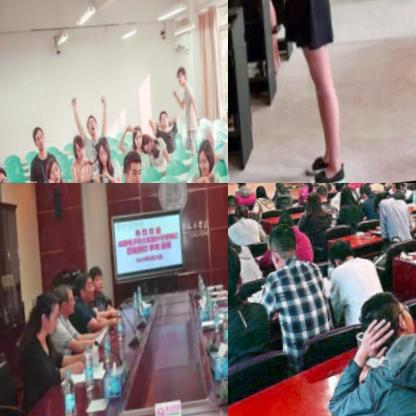head: (355, 287, 416, 361), (264, 224, 302, 268), (31, 290, 63, 337), (228, 243, 246, 303), (327, 234, 356, 271), (196, 137, 219, 179), (56, 280, 80, 317), (120, 149, 146, 183), (76, 273, 98, 305), (42, 154, 65, 183), (86, 264, 106, 294), (303, 191, 322, 217), (276, 210, 294, 235), (72, 132, 88, 160), (96, 138, 112, 166), (32, 124, 47, 151), (373, 192, 390, 215), (233, 204, 252, 224), (314, 183, 329, 207), (140, 131, 156, 153), (131, 124, 144, 151), (86, 111, 100, 134), (339, 187, 355, 206), (158, 108, 170, 132), (358, 183, 372, 203), (0, 162, 13, 183), (228, 193, 239, 217), (176, 65, 189, 85), (254, 184, 268, 201), (228, 223, 234, 262), (223, 104, 228, 138), (390, 183, 402, 194), (275, 183, 285, 195), (234, 183, 247, 192), (332, 183, 346, 191)
